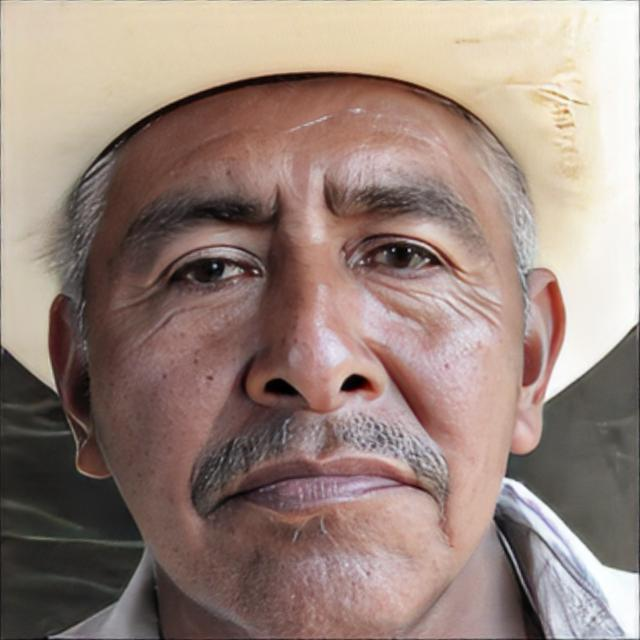anger: (91, 26, 525, 626)
